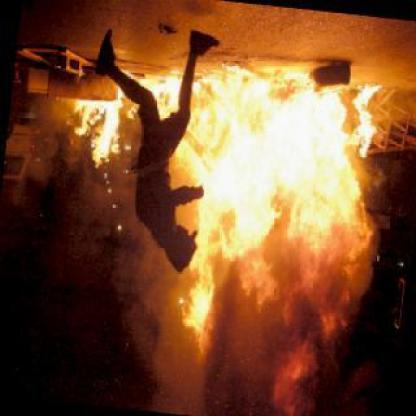Fire: (166, 21, 396, 344), (76, 69, 159, 170)
